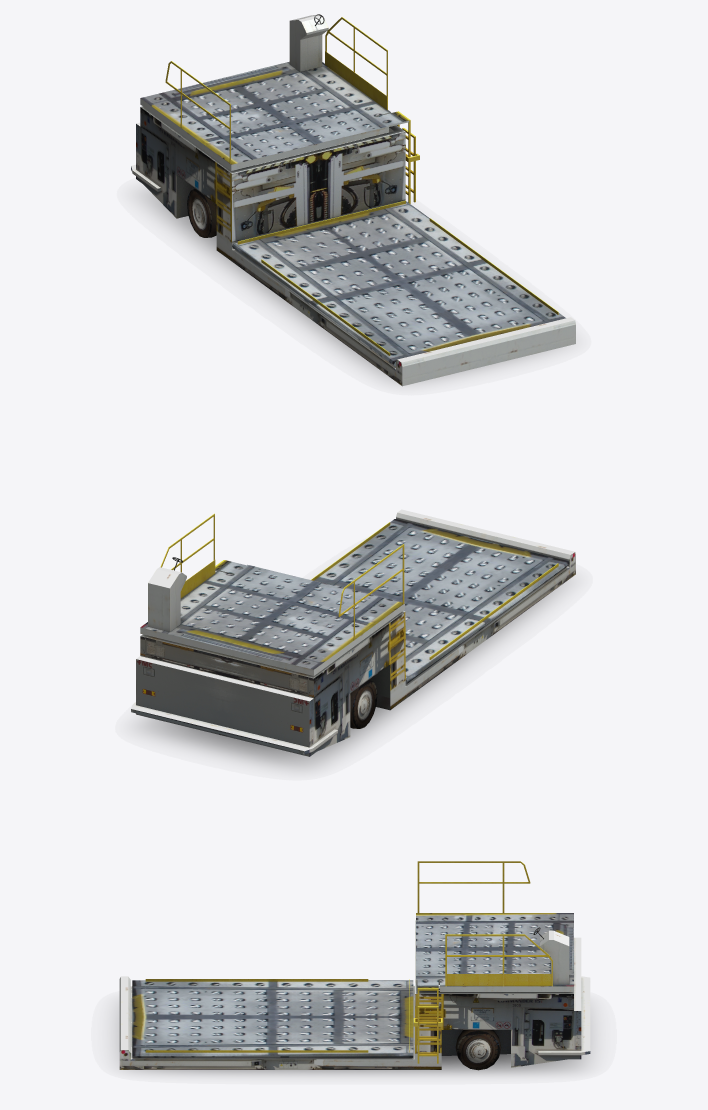
File: Generic.gltf
3 views of the same model, one above another, from view 1: azimuth 30°, elevation 25°; view 2: azimuth 150°, elevation 25°; view 3: azimuth 270°, elevation 25° (orthographic). The views are drawn at different scales.
Visible parts, largest first — view 1: Generic; view 2: Generic; view 3: Generic.
Boxes of the visible parts, box(x1,y1,x2,y2) form: Generic: box(131, 14, 575, 386); Generic: box(131, 509, 575, 767); Generic: box(119, 861, 590, 1074).
Bounding box in the file's own units: 5.39 × 2.85 × 12.71.
